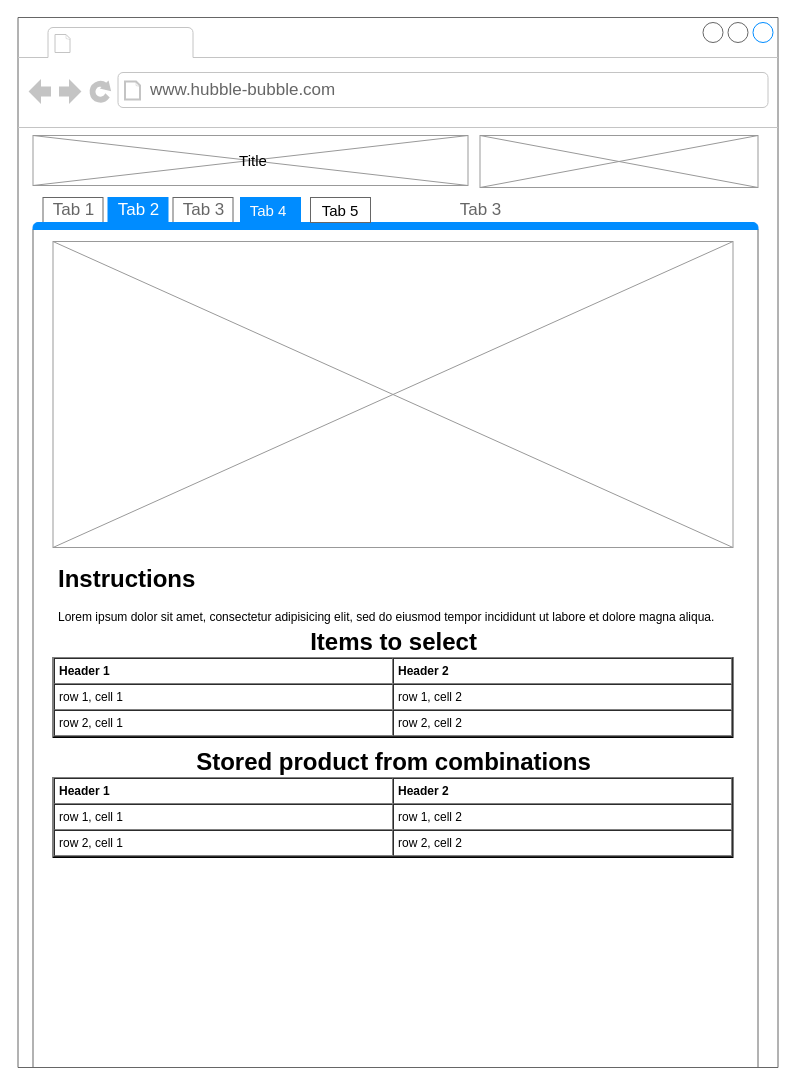
The diagram is 795 pixels wide and 1085 high, and some of its shapes have lost their labels. The centre of each missing label's shape, as x and y in pixels:
"Cauldron" belongs at [392,394].
"Hubble Bubble" belongs at [132,42].
"Logo" belongs at [618,161].
